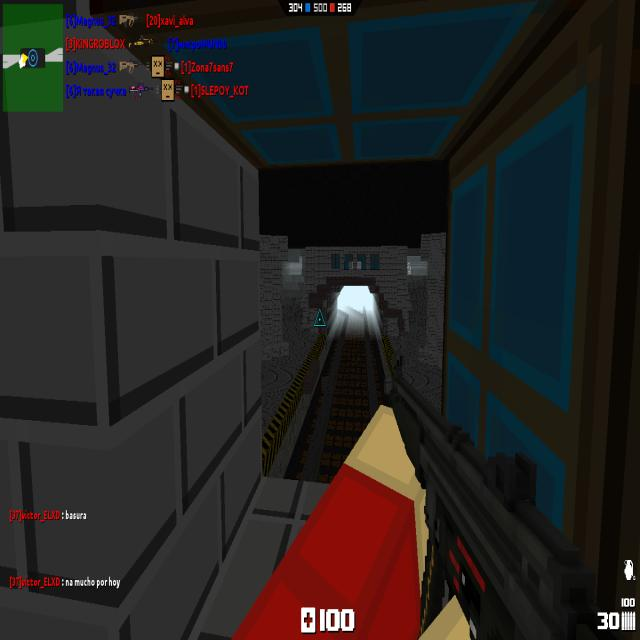enemy: (407, 262, 411, 276)
